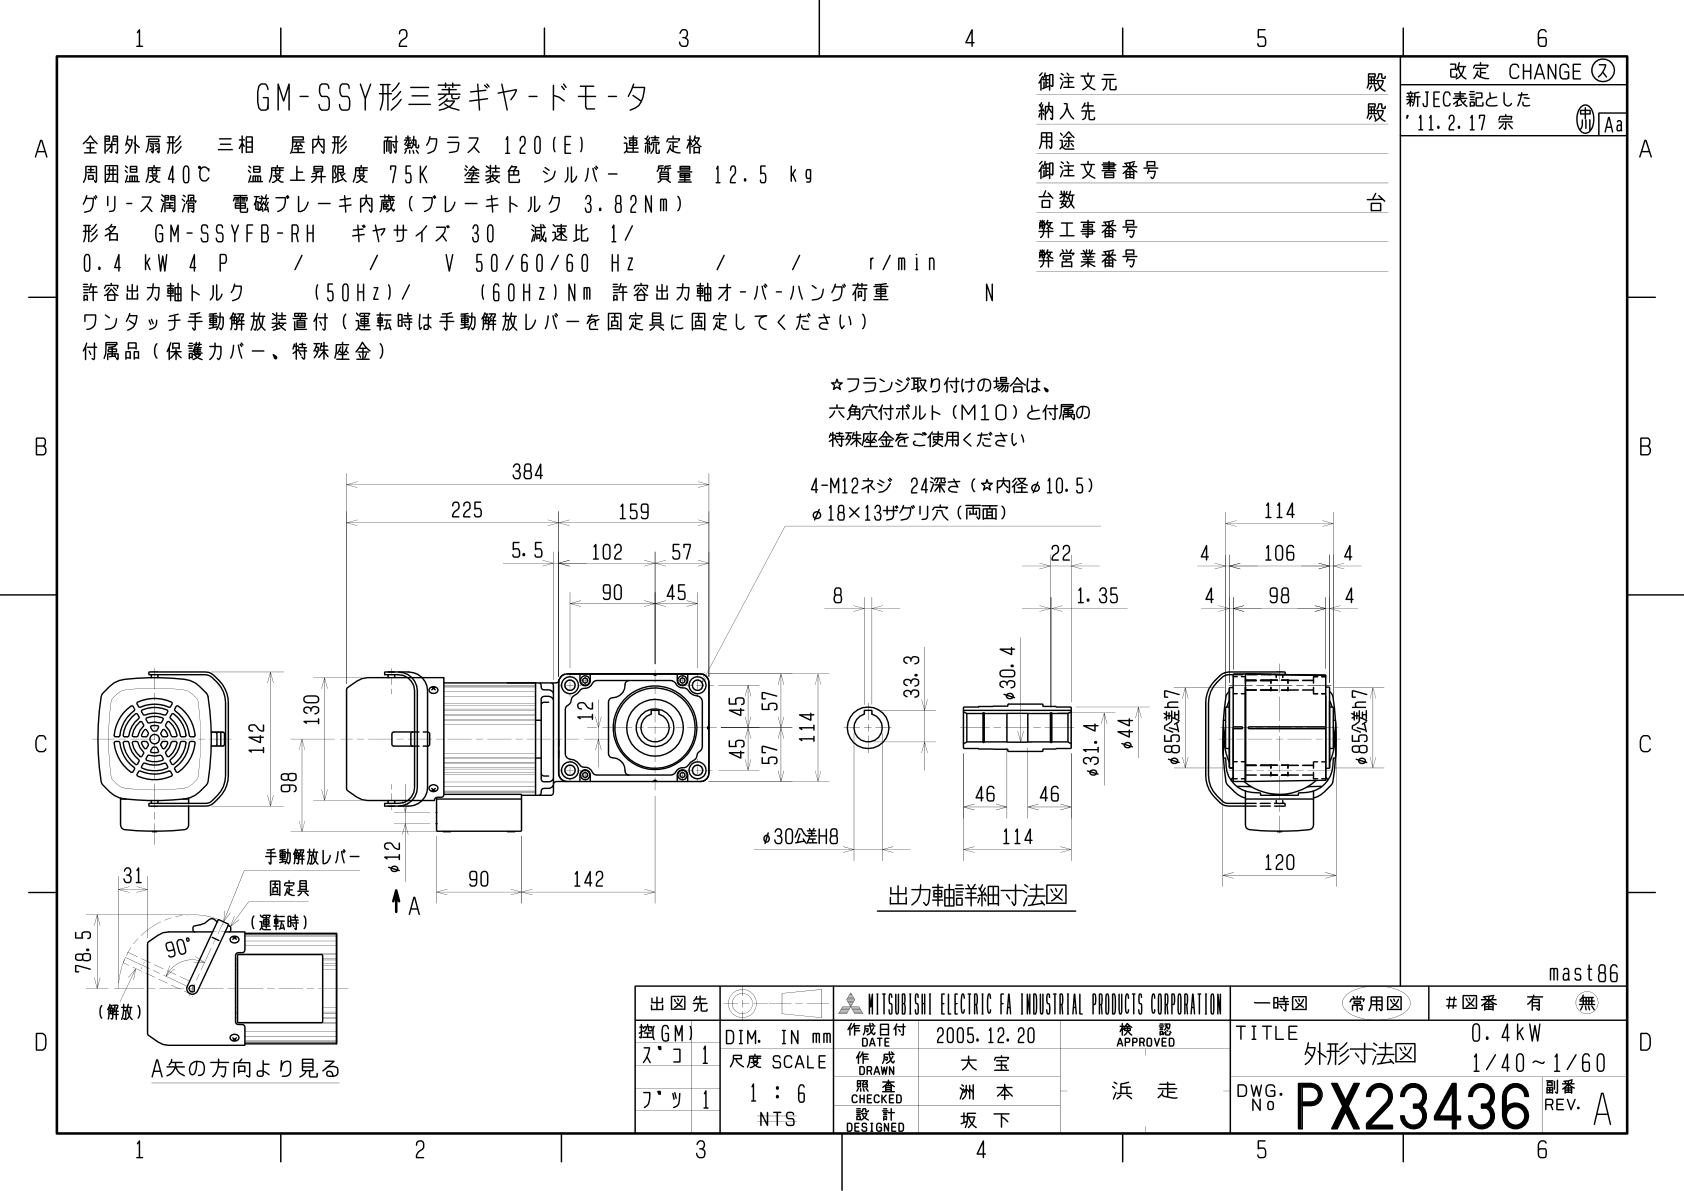GM_SSY_手動解放_三相: (71, 363, 1393, 963)
